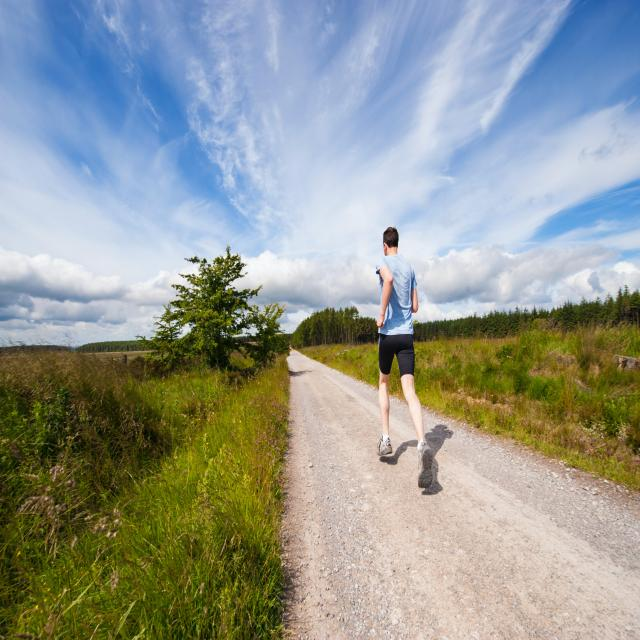running: (369, 219, 442, 497)
